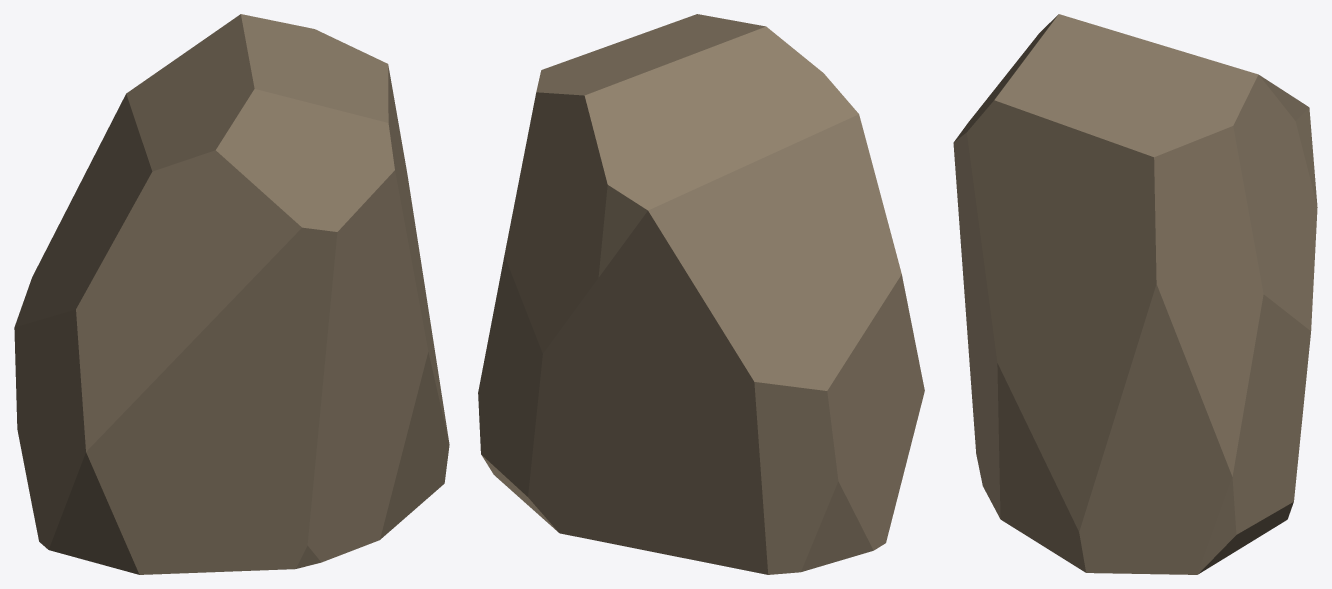
Rendered from Stone_5_brown.fbx.
3 renders of one model, left to right at view 1: azimuth 30°, elevation 25°; view 2: azimuth 150°, elevation 25°; view 3: azimuth 270°, elevation 25°, orthographic. The views are drawn at different scales.
Visible parts, largest first — view 1: Stone_5_brown; view 2: Stone_5_brown; view 3: Stone_5_brown.
Part boxes in pixels (x1=…): Stone_5_brown: x1=14, y1=14, x2=449, y2=574; Stone_5_brown: x1=478, y1=14, x2=924, y2=574; Stone_5_brown: x1=953, y1=14, x2=1317, y2=574.
Size of the model in its own units: 83.72 by 97.75 by 70.29.
